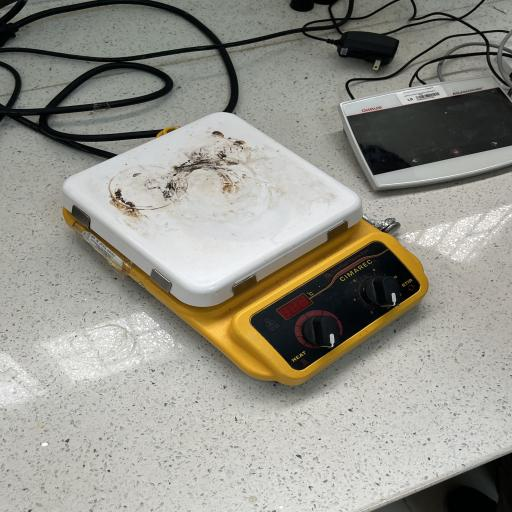Plancha_Agitacion_Cimarec: (38, 102, 441, 400)
